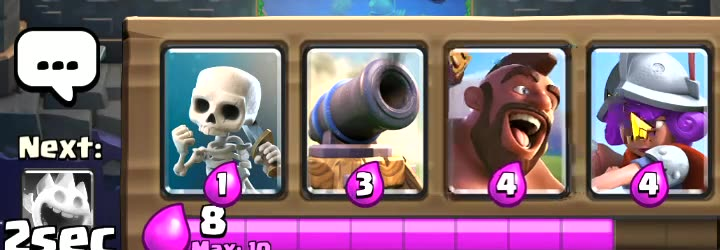hog-rider: (445, 54, 555, 198)
musketeer: (597, 46, 710, 200)
